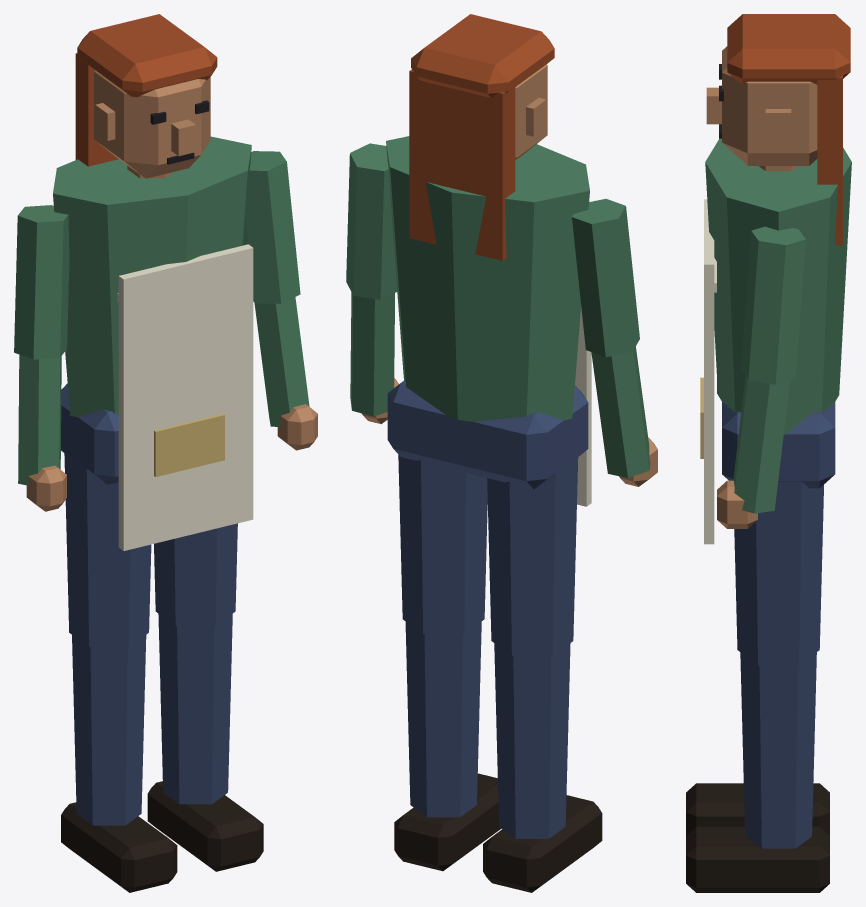
Rendered from person.res-family.glb.
The picture shows the model from 3 angles, left to right: view 1: azimuth 30°, elevation 25°; view 2: azimuth 150°, elevation 25°; view 3: azimuth 270°, elevation 25°; orthographic projection. The views are drawn at different scales.
Parts seen in each view (by area): view 1: apron, torso, shin1, shin-1, thigh-1, upper-1, hair, head, thigh1, upper1, shoe-1, shoe1 (+9 smaller); view 2: torso, thigh-1, thigh1, hair-back, shin1, shin-1, hips, upper-1, hair, upper1, shoe-1, fore-1 (+5 smaller); view 3: torso, thigh1, shin1, upper1, shoe1, hair, head, fore1, hips, apron, shoe-1, hair-back (+3 smaller).
Part boxes in pixels (x1=…): apron: x1=118, y1=244, x2=253, y2=550; torso: x1=53, y1=136, x2=251, y2=417; shin1: x1=158, y1=613, x2=232, y2=804; shin-1: x1=72, y1=635, x2=146, y2=825; thigh-1: x1=64, y1=453, x2=151, y2=647; upper-1: x1=14, y1=205, x2=69, y2=359; hair: x1=77, y1=14, x2=217, y2=97; head: x1=94, y1=70, x2=210, y2=178; thigh1: x1=154, y1=523, x2=237, y2=625; upper1: x1=244, y1=151, x2=300, y2=303; shoe-1: x1=61, y1=802, x2=177, y2=892; shoe1: x1=147, y1=781, x2=263, y2=871; torso: x1=386, y1=136, x2=589, y2=421; thigh-1: x1=487, y1=456, x2=578, y2=655; thigh1: x1=398, y1=454, x2=487, y2=634; hair-back: x1=409, y1=69, x2=515, y2=260; shin1: x1=405, y1=622, x2=481, y2=817; shin-1: x1=494, y1=643, x2=570, y2=838; hips: x1=387, y1=380, x2=588, y2=489; upper-1: x1=572, y1=198, x2=639, y2=356; hair: x1=411, y1=14, x2=554, y2=97; upper1: x1=346, y1=143, x2=397, y2=299; shoe-1: x1=483, y1=795, x2=602, y2=892; fore-1: x1=591, y1=346, x2=650, y2=477; torso: x1=705, y1=138, x2=851, y2=434; thigh1: x1=734, y1=481, x2=823, y2=664; shin1: x1=740, y1=652, x2=816, y2=848; upper1: x1=741, y1=226, x2=805, y2=384; shoe1: x1=686, y1=826, x2=829, y2=892; hair: x1=727, y1=14, x2=850, y2=84; head: x1=722, y1=46, x2=817, y2=165; fore1: x1=733, y1=377, x2=789, y2=513; hips: x1=722, y1=402, x2=835, y2=488; apron: x1=704, y1=199, x2=714, y2=544; shoe-1: x1=686, y1=783, x2=829, y2=835; hair-back: x1=817, y1=75, x2=842, y2=245.
Bounding box in the file's own units: 0.6746 × 1.78 × 0.3226.
